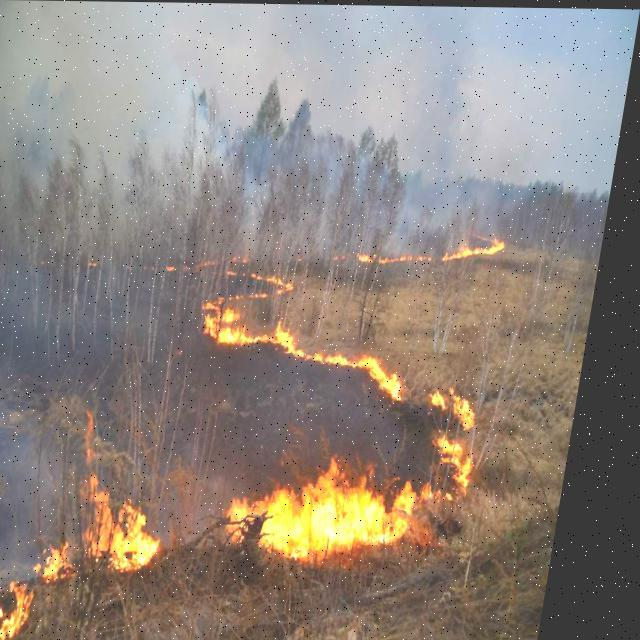Fire: (194, 247, 434, 403), (52, 418, 192, 574), (233, 462, 438, 560), (344, 220, 514, 268), (431, 382, 501, 494), (0, 582, 64, 638)
